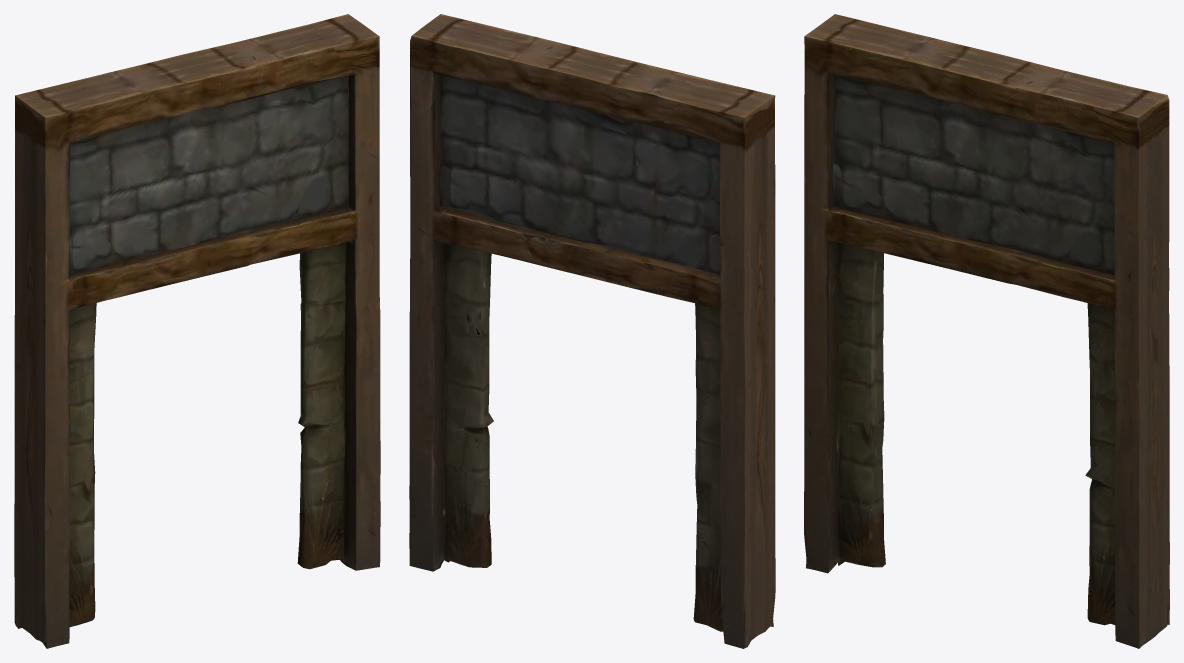
File: frame_dungeon.glb
3 views of the same model, side by side, from view 1: azimuth 30°, elevation 25°; view 2: azimuth 150°, elevation 25°; view 3: azimuth 330°, elevation 25° (orthographic).
Parts seen in each view (by area): view 1: Meshy_AI_Dungeon_Gate_1215093133_texture; view 2: Meshy_AI_Dungeon_Gate_1215093133_texture; view 3: Meshy_AI_Dungeon_Gate_1215093133_texture.
Boxes of the visible parts, x1,y1,x2,y2 form: Meshy_AI_Dungeon_Gate_1215093133_texture: [14, 14, 380, 648]; Meshy_AI_Dungeon_Gate_1215093133_texture: [409, 14, 775, 648]; Meshy_AI_Dungeon_Gate_1215093133_texture: [804, 14, 1169, 648].
Size of the model in its own units: 2.01 by 3.05 by 0.3191.
Materials: 1 (1 with a texture image).
